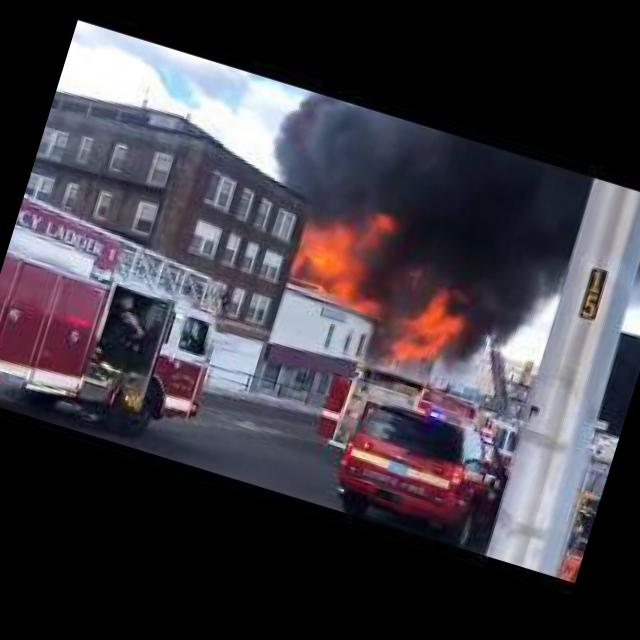fire: (278, 188, 414, 318), (380, 270, 472, 376)
smoke: (249, 88, 593, 294)
